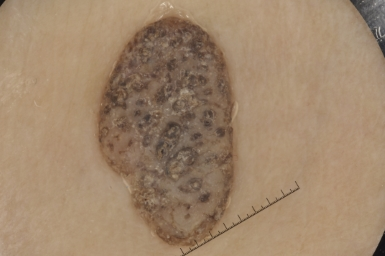seborrheic keratosis: (86, 9, 258, 250)
